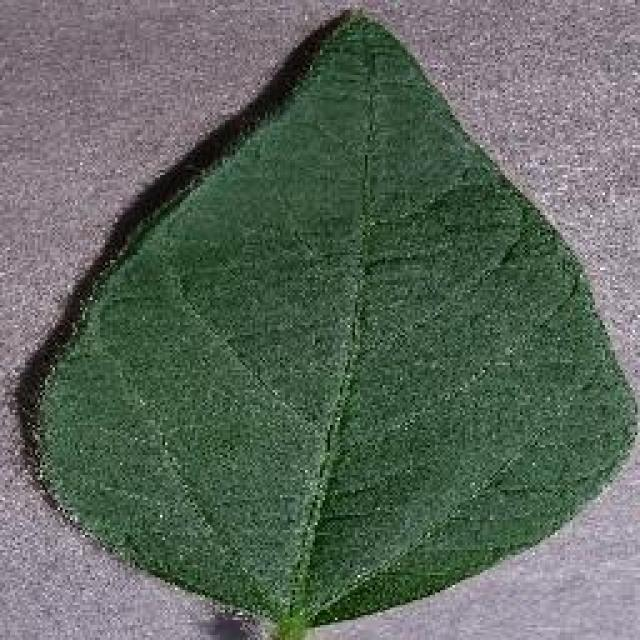Soy_healthy: (44, 55, 612, 592)
